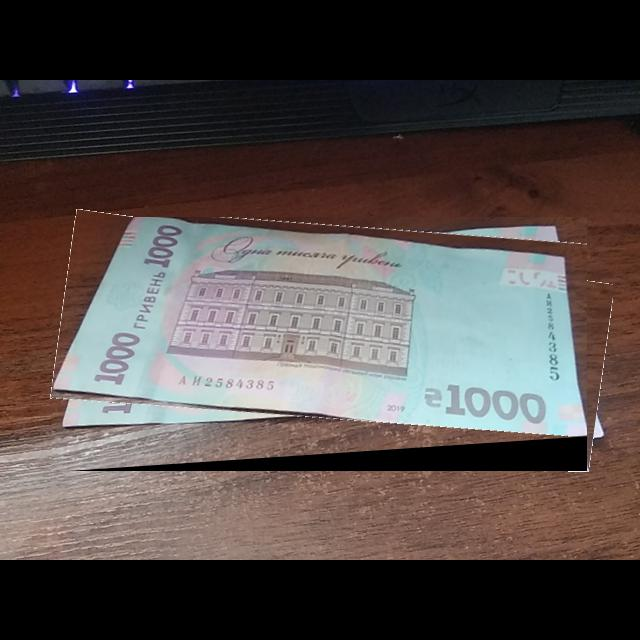1000uah: (52, 217, 588, 445)
